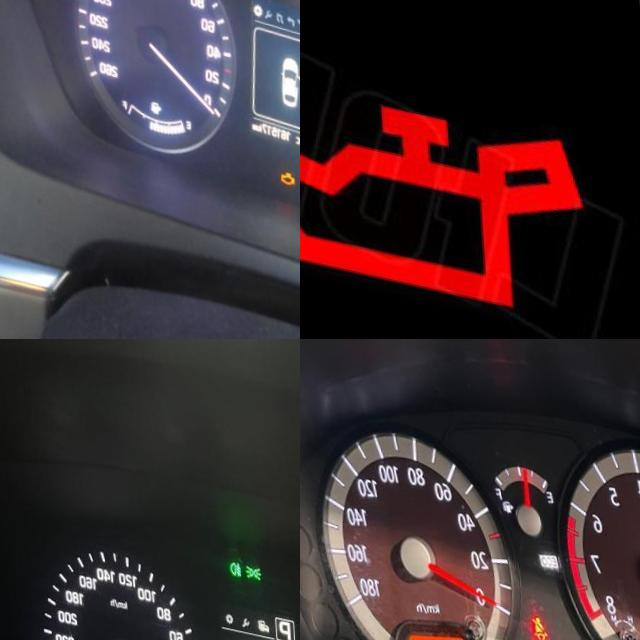FrontFogLight: (227, 547, 240, 565)
SideLamp: (242, 549, 259, 567)
